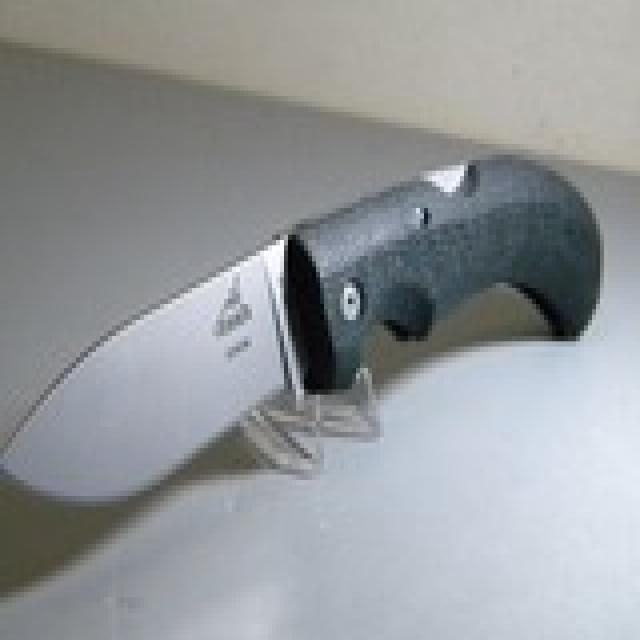Knife: (16, 122, 609, 526)
